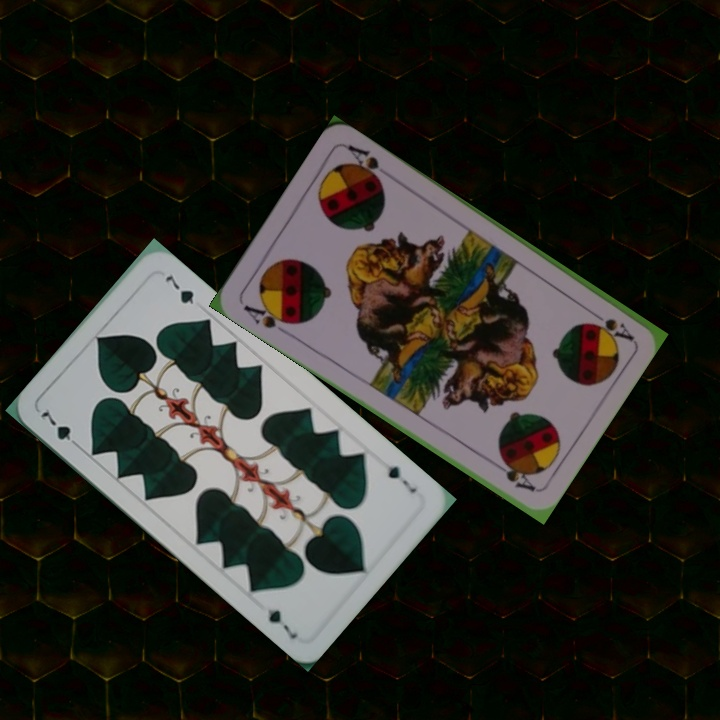G7: (36, 404, 84, 452), (383, 461, 420, 496)
SA: (239, 297, 297, 338), (582, 304, 635, 343)
